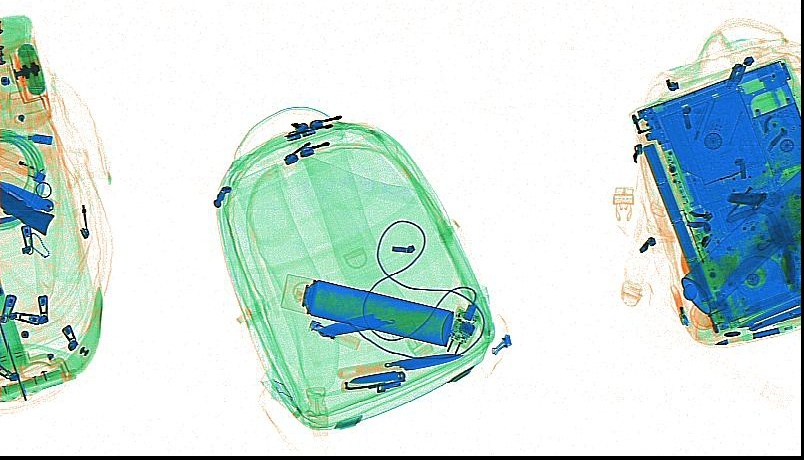knife: (317, 305, 436, 340), (333, 354, 464, 381), (1, 182, 55, 236), (1, 169, 55, 212), (341, 369, 405, 392)
lighter: (306, 318, 360, 351), (1, 144, 46, 183), (669, 282, 688, 327)
pressure: (679, 170, 799, 316), (277, 271, 454, 347)
